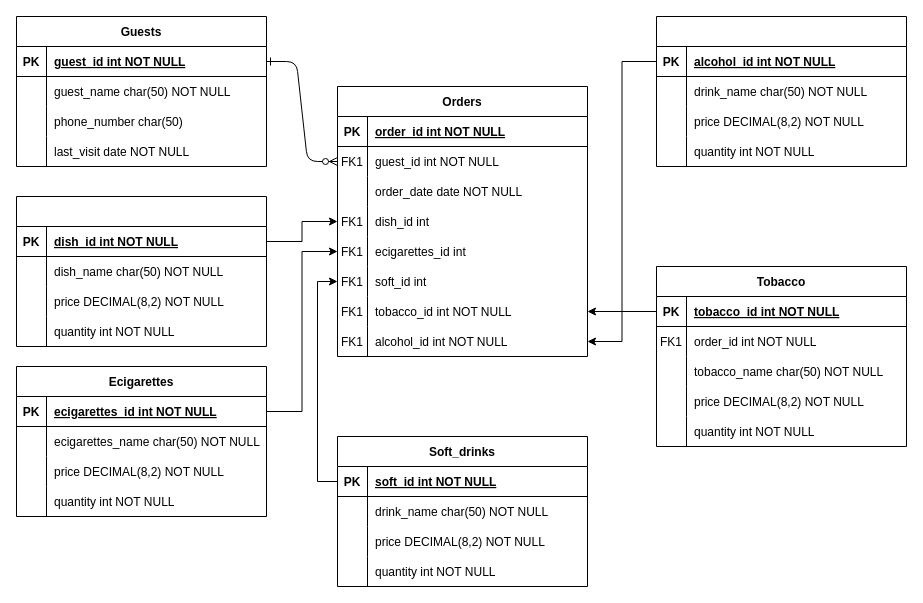
Some shapes in this 923 by 603 pixel diagram are drawn without their labels. The box of each missing label's shape, as (x1, y1, x2, y2) in pixels:
Alcoholic_beverages: (656, 16, 906, 166)
Dishes: (16, 196, 266, 346)
